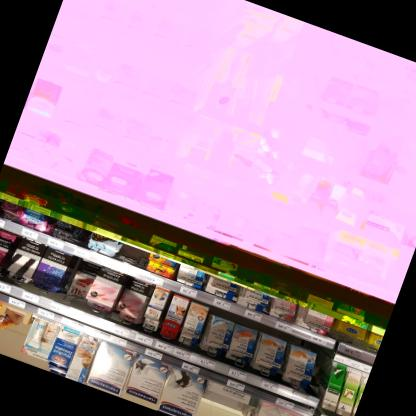empty_space: (192, 389, 245, 416), (0, 312, 24, 357)
